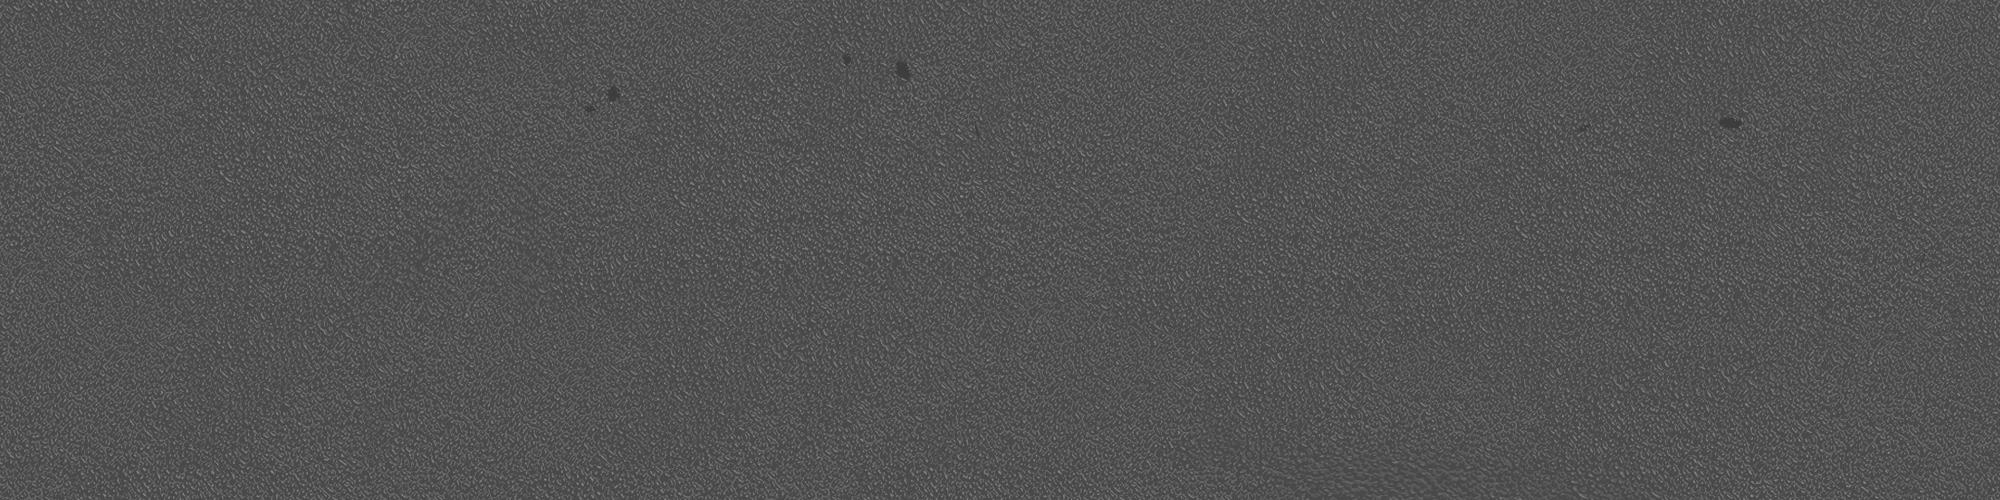Decomposed: (888, 57, 911, 84), (606, 79, 628, 102), (583, 98, 598, 119), (841, 54, 855, 65)
